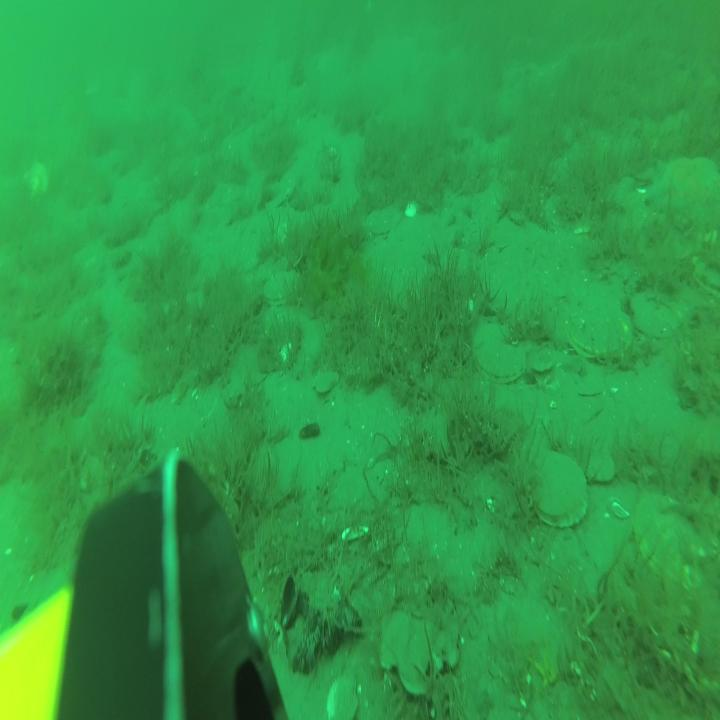scallop: (634, 492, 704, 582), (524, 453, 587, 526), (566, 301, 630, 362), (474, 323, 527, 383), (632, 292, 684, 341), (325, 676, 360, 720), (264, 270, 301, 306), (588, 447, 616, 487), (367, 206, 401, 238), (22, 160, 48, 198), (694, 261, 720, 297), (532, 347, 556, 384)
starfish: (647, 156, 720, 216), (312, 368, 340, 394)
